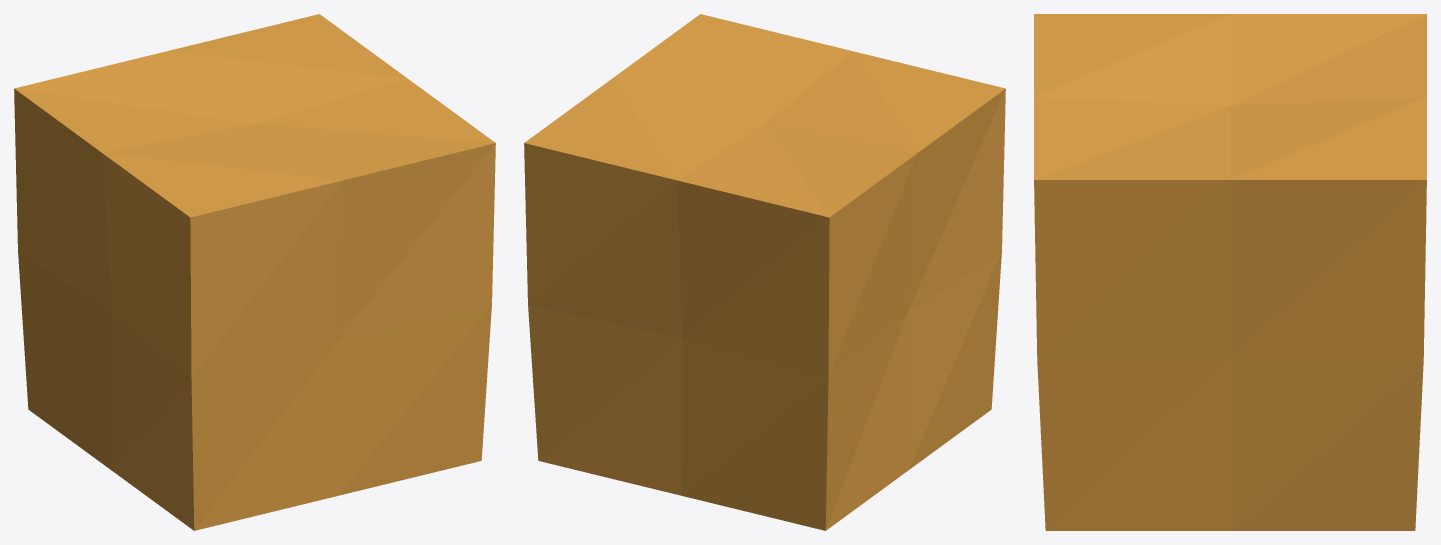
File: epoxi-resin.fbx
The picture shows the model from 3 angles, left to right: view 1: azimuth 30°, elevation 25°; view 2: azimuth 150°, elevation 25°; view 3: azimuth 270°, elevation 25°; orthographic projection. The views are drawn at different scales.
Parts seen in each view (by area): view 1: epoxi-resin; view 2: epoxi-resin; view 3: epoxi-resin.
Part boxes in pixels (bbox=[...]): epoxi-resin: bbox=[14, 14, 495, 530]; epoxi-resin: bbox=[524, 14, 1005, 530]; epoxi-resin: bbox=[1034, 14, 1426, 530].
Size of the model in its own units: 0.1 by 0.0999 by 0.1.
